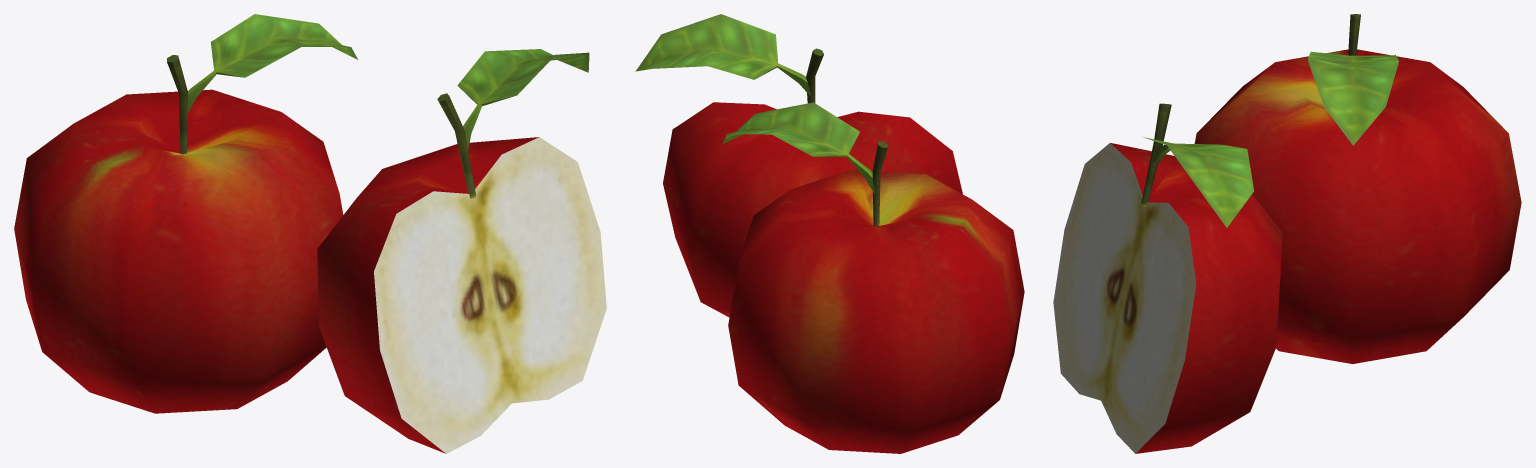
File: aple.fbx
3 views of the same model, side by side, from view 1: azimuth 30°, elevation 25°; view 2: azimuth 150°, elevation 25°; view 3: azimuth 270°, elevation 25° (orthographic). The views are drawn at different scales.
Parts seen in each view (by area): view 1: Mesh Object_ncl1_1, Mesh Object; view 2: Mesh Object_ncl1_1, Mesh Object; view 3: Mesh Object_ncl1_1, Mesh Object.
Part boxes in pixels (x1=…): Mesh Object_ncl1_1: x1=14, y1=14, x2=357, y2=413; Mesh Object: x1=317, y1=49, x2=606, y2=453; Mesh Object_ncl1_1: x1=722, y1=102, x2=1024, y2=453; Mesh Object: x1=635, y1=14, x2=962, y2=317; Mesh Object_ncl1_1: x1=1194, y1=14, x2=1521, y2=363; Mesh Object: x1=1053, y1=103, x2=1282, y2=453.
Size of the model in its own units: 0.159 by 0.1054 by 0.1359.
